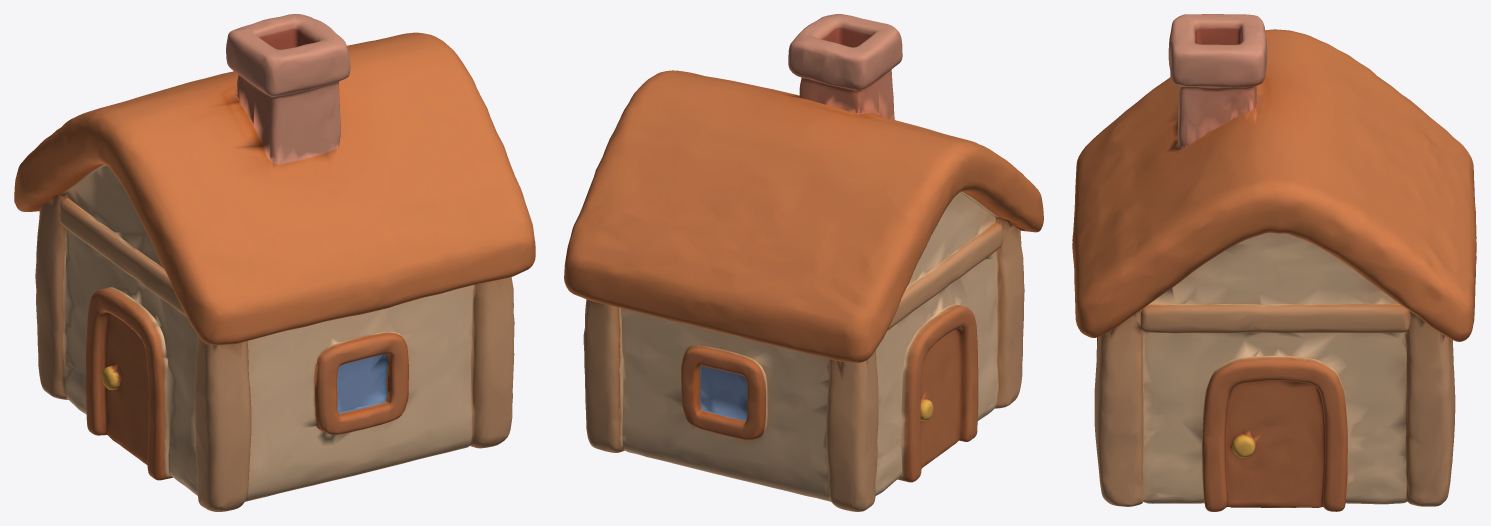
File: house.glb
The picture shows the model from 3 angles, left to right: view 1: azimuth 30°, elevation 25°; view 2: azimuth 150°, elevation 25°; view 3: azimuth 270°, elevation 25°; orthographic projection. The views are drawn at different scales.
Visible parts, largest first — view 1: tripo_node_bfee106d-e5e7-4aff-880c-676b6ec2c20e; view 2: tripo_node_bfee106d-e5e7-4aff-880c-676b6ec2c20e; view 3: tripo_node_bfee106d-e5e7-4aff-880c-676b6ec2c20e.
Boxes of the visible parts, <box> form: tripo_node_bfee106d-e5e7-4aff-880c-676b6ec2c20e: <box>14,14,535,511</box>; tripo_node_bfee106d-e5e7-4aff-880c-676b6ec2c20e: <box>564,14,1043,511</box>; tripo_node_bfee106d-e5e7-4aff-880c-676b6ec2c20e: <box>1072,14,1476,511</box>.
Bounding box in the file's own units: 0.8695 × 0.9794 × 0.8934.
1 material, 1 textured.
